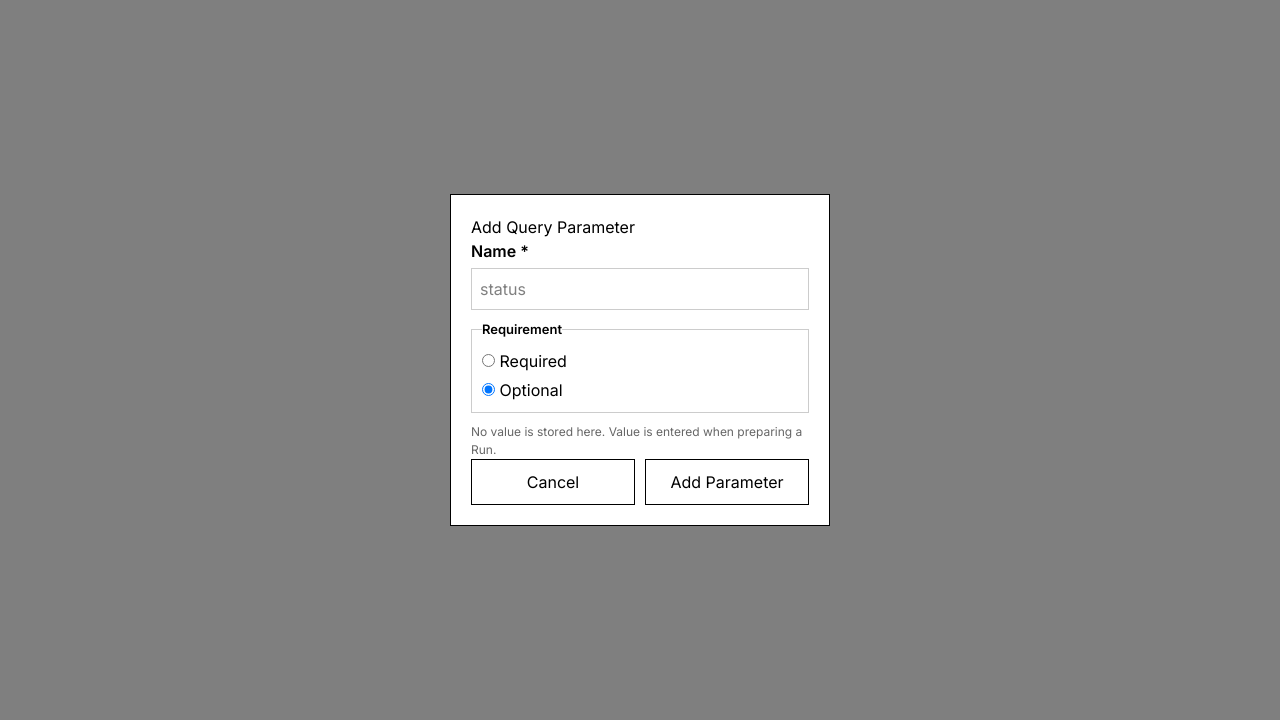
Test: ParameterDefinitionDialog › rejects an empty name
The width and height of the screenshot is (1280, 720).
Click the button "Add Parameter" at (727, 482), box [645,459,809,505]
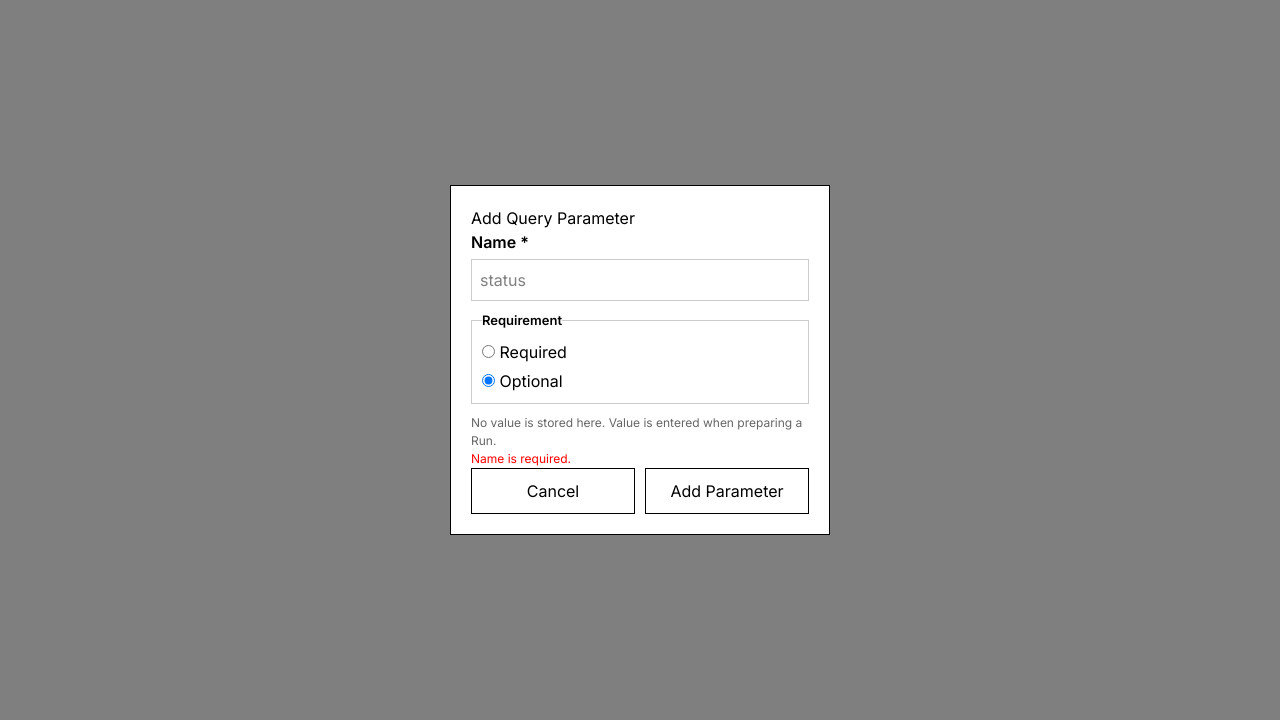
Expected: the text "Name is required." is shown, [471,451,571,466]
